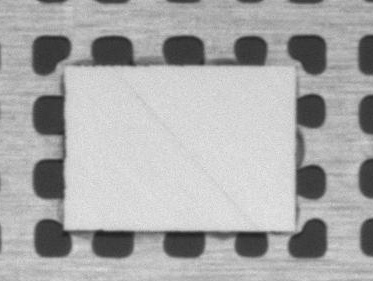DIE_CRACK: (111, 67, 253, 224)
